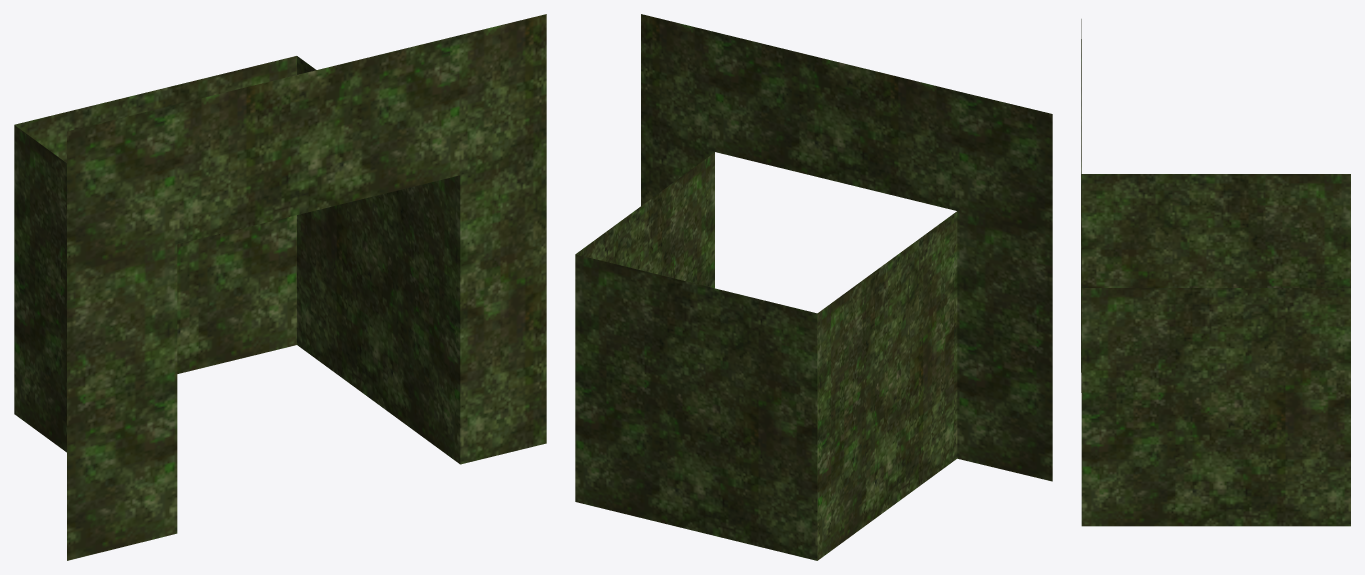
Rendered from OVERHILL_A_01_OBJECT234.fbx.
3 views of the same model, side by side, from view 1: azimuth 30°, elevation 25°; view 2: azimuth 150°, elevation 25°; view 3: azimuth 270°, elevation 25° (orthographic). The views are drawn at different scales.
Visible parts, largest first — view 1: OVERHILL_A_01_OBJECT234; view 2: OVERHILL_A_01_OBJECT234; view 3: OVERHILL_A_01_OBJECT234.
Boxes of the visible parts, bbox=[...] form: OVERHILL_A_01_OBJECT234: bbox=[14, 14, 546, 560]; OVERHILL_A_01_OBJECT234: bbox=[575, 14, 1052, 560]; OVERHILL_A_01_OBJECT234: bbox=[1081, 19, 1350, 526].
Bounding box in the file's own units: 55407 × 47334 × 32712.
1 material, 1 textured.
